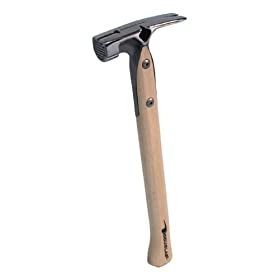hammer: (93, 10, 187, 270)
